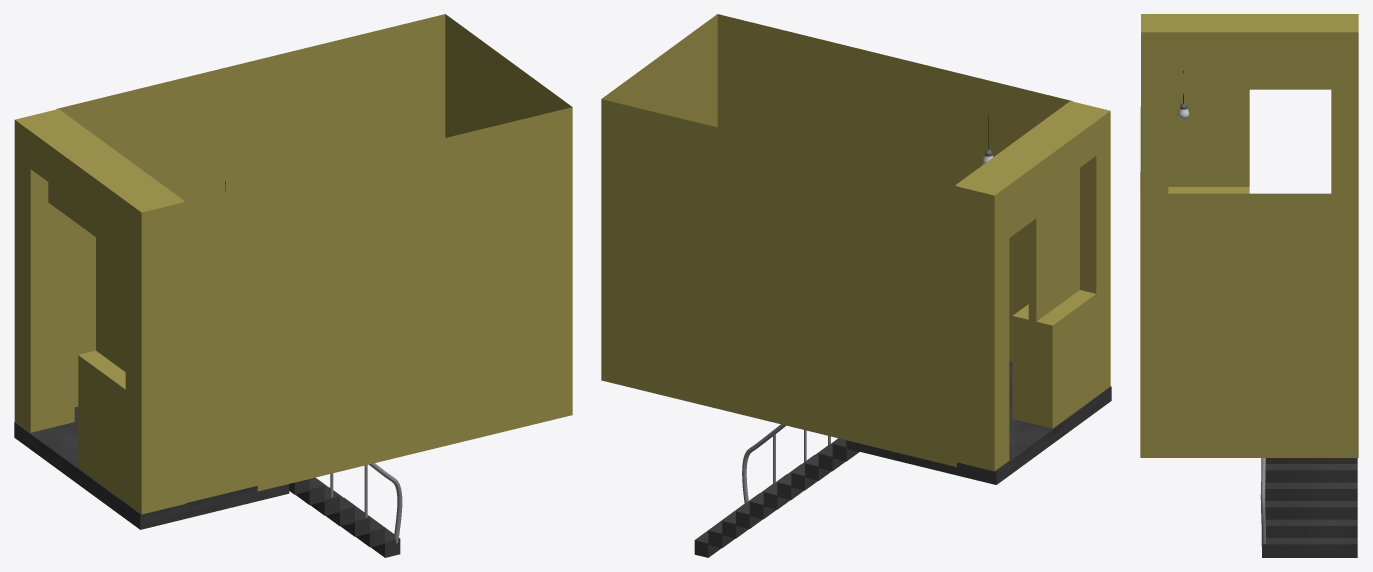
Rendered from Room.obj.
The picture shows the model from 3 angles, left to right: view 1: azimuth 30°, elevation 25°; view 2: azimuth 150°, elevation 25°; view 3: azimuth 270°, elevation 25°; orthographic projection. The views are drawn at different scales.
Visible parts, largest first — view 1: Walls, Door_wall, floor_2, Stairs_2; view 2: Walls, Door_wall, Stairs_2, floor_2; view 3: Walls, Door_wall, Stairs_2, Railing.001.
Part boxes in pixels (bbox=[...]): Walls: bbox=[56, 14, 572, 502]; Door_wall: bbox=[14, 109, 185, 514]; floor_2: bbox=[14, 406, 289, 529]; Stairs_2: bbox=[289, 477, 400, 557]; Walls: bbox=[601, 14, 1072, 466]; Door_wall: bbox=[954, 101, 1110, 471]; Stairs_2: bbox=[694, 438, 860, 557]; floor_2: bbox=[860, 361, 1111, 484]; Walls: bbox=[1140, 42, 1358, 457]; Door_wall: bbox=[1141, 14, 1358, 193]; Stairs_2: bbox=[1262, 458, 1357, 557]; Railing.001: bbox=[1260, 458, 1265, 546].
Size of the model in its own units: 19.59 by 20.56 by 9.99.
